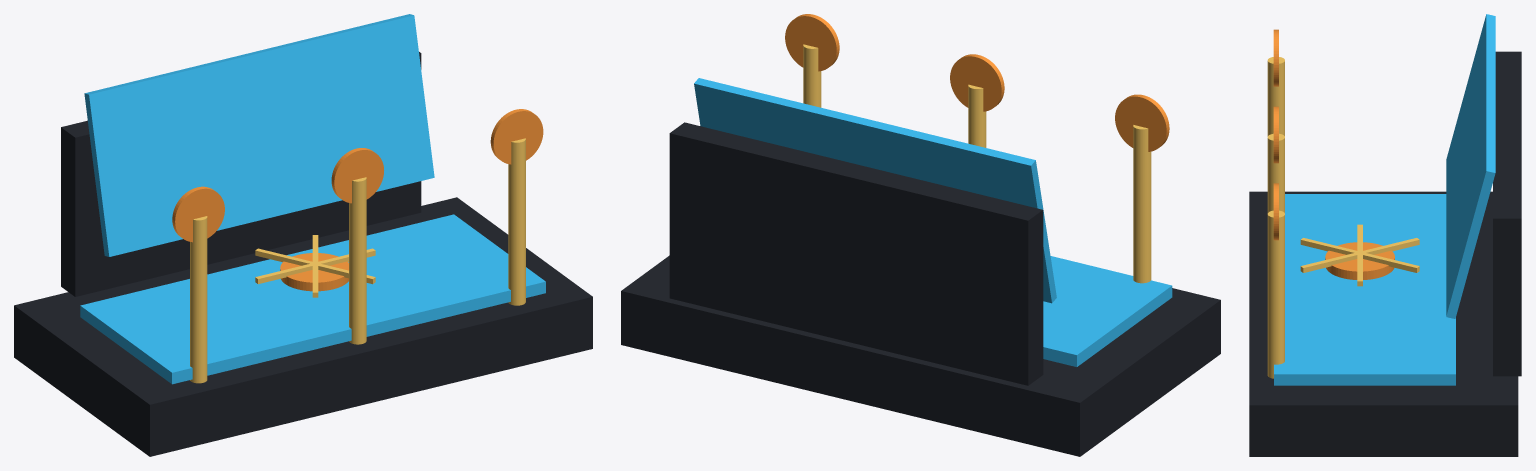
Rendered from controlled_arda_workstation.glb.
3 renders of one model, left to right at view 1: azimuth 30°, elevation 25°; view 2: azimuth 150°, elevation 25°; view 3: azimuth 270°, elevation 25°, orthographic. The views are drawn at different scales.
Parts seen in each view (by area): view 1: tilted_holographic_panel, low_poly_workstation_plinth, recessed_operator_deck, rear_compute_spine, triad_sigil_column_1, triad_sigil_column_2, triad_sigil_column_3, triad_sigil_ring_1, triad_sigil_ring_2, triad_sigil_ring_3, central_decision_orb, soterion_radial_trace_0 (+1 smaller); view 2: rear_compute_spine, low_poly_workstation_plinth, tilted_holographic_panel, recessed_operator_deck, triad_sigil_column_1, triad_sigil_ring_2, triad_sigil_ring_1, triad_sigil_ring_3, triad_sigil_column_2, triad_sigil_column_3; view 3: low_poly_workstation_plinth, recessed_operator_deck, tilted_holographic_panel, rear_compute_spine, triad_sigil_column_3, central_decision_orb, triad_sigil_column_1, triad_sigil_column_2, soterion_radial_trace_120, soterion_radial_trace_60, soterion_radial_trace_0, triad_sigil_ring_1 (+2 smaller).
Boxes of the visible parts, bbox=[...] form: tilted_holographic_panel: bbox=[84, 14, 434, 256]; low_poly_workstation_plinth: bbox=[14, 197, 592, 456]; recessed_operator_deck: bbox=[80, 214, 545, 384]; rear_compute_spine: bbox=[61, 52, 421, 296]; triad_sigil_column_1: bbox=[190, 216, 207, 383]; triad_sigil_column_2: bbox=[349, 177, 366, 344]; triad_sigil_column_3: bbox=[508, 138, 525, 305]; triad_sigil_ring_1: bbox=[172, 186, 224, 242]; triad_sigil_ring_2: bbox=[331, 148, 383, 203]; triad_sigil_ring_3: bbox=[490, 109, 543, 164]; central_decision_orb: bbox=[280, 253, 348, 291]; soterion_radial_trace_0: bbox=[255, 248, 375, 284]; rear_compute_spine: bbox=[669, 122, 1043, 385]; low_poly_workstation_plinth: bbox=[621, 255, 1220, 456]; tilted_holographic_panel: bbox=[694, 78, 1056, 303]; recessed_operator_deck: bbox=[1043, 256, 1172, 366]; triad_sigil_column_1: bbox=[1133, 125, 1151, 283]; triad_sigil_ring_2: bbox=[950, 54, 1004, 111]; triad_sigil_ring_1: bbox=[1115, 94, 1169, 151]; triad_sigil_ring_3: bbox=[785, 14, 839, 71]; triad_sigil_column_2: bbox=[968, 84, 986, 147]; triad_sigil_column_3: bbox=[803, 44, 821, 107]; low_poly_workstation_plinth: bbox=[1249, 191, 1518, 456]; recessed_operator_deck: bbox=[1274, 194, 1455, 385]; tilted_holographic_panel: bbox=[1446, 14, 1495, 318]; rear_compute_spine: bbox=[1493, 51, 1521, 376]; triad_sigil_column_3: bbox=[1267, 210, 1284, 378]; central_decision_orb: bbox=[1325, 242, 1394, 279]; triad_sigil_column_1: bbox=[1267, 57, 1284, 136]; triad_sigil_column_2: bbox=[1267, 133, 1284, 212]; soterion_radial_trace_120: bbox=[1300, 238, 1419, 272]; soterion_radial_trace_60: bbox=[1300, 238, 1419, 272]; soterion_radial_trace_0: bbox=[1357, 224, 1362, 286]; triad_sigil_ring_1: bbox=[1273, 29, 1278, 86].
Bounding box in the file's own units: 3.2 × 1.8 × 1.72.
